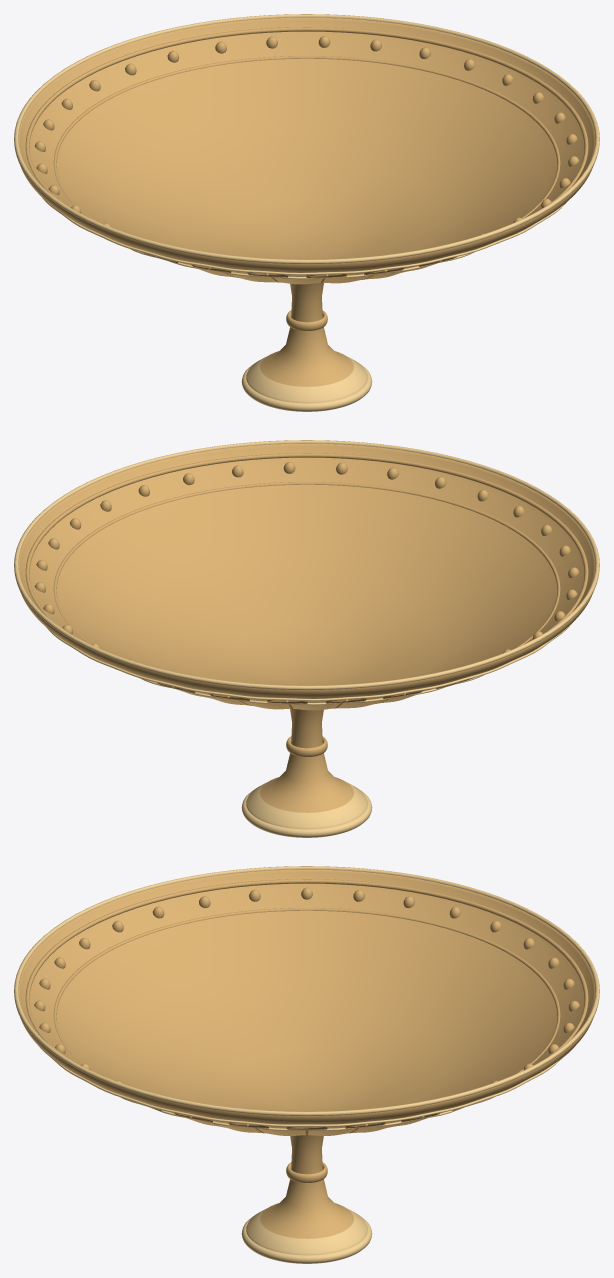
The model's file is bowl-v7.glb.
3 views of the same model, one above another, from view 1: azimuth 30°, elevation 25°; view 2: azimuth 150°, elevation 25°; view 3: azimuth 270°, elevation 25° (orthographic).
Visible parts, largest first — view 1: MIDIS_Patera_V7_Bronze_Inlaid_Flutes; view 2: MIDIS_Patera_V7_Bronze_Inlaid_Flutes; view 3: MIDIS_Patera_V7_Bronze_Inlaid_Flutes.
Boxes of the visible parts, x1,y1,x2,y2 form: MIDIS_Patera_V7_Bronze_Inlaid_Flutes: [14, 14, 599, 411]; MIDIS_Patera_V7_Bronze_Inlaid_Flutes: [14, 440, 599, 837]; MIDIS_Patera_V7_Bronze_Inlaid_Flutes: [14, 866, 599, 1263].
Bounding box in the file's own units: 1.77 × 0.831 × 1.77.
